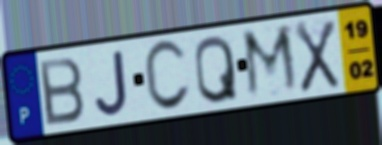B: (37, 54, 88, 128)
C: (142, 37, 193, 115)
J: (93, 48, 131, 118)
M: (239, 22, 303, 102)
Q: (193, 32, 240, 106)
X: (292, 18, 342, 95)
